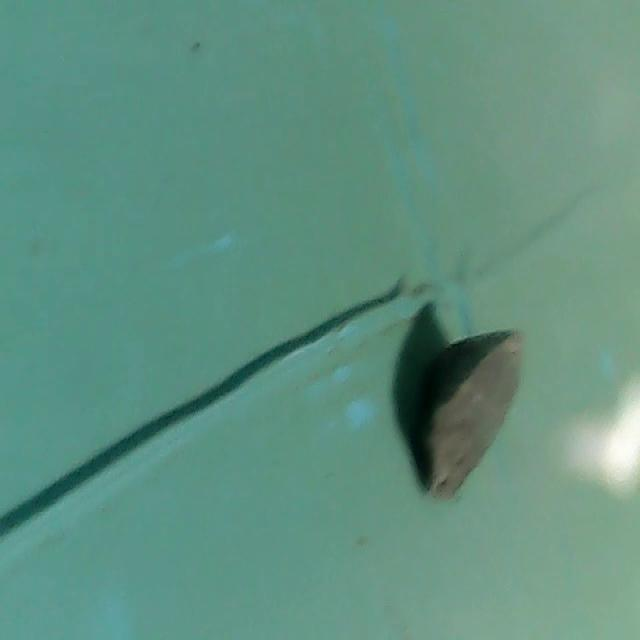rock: (394, 316, 532, 512)
